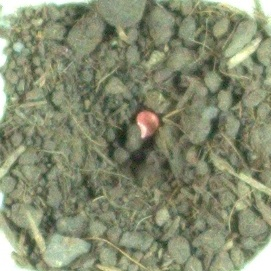chilli seed: (134, 109, 164, 140)
